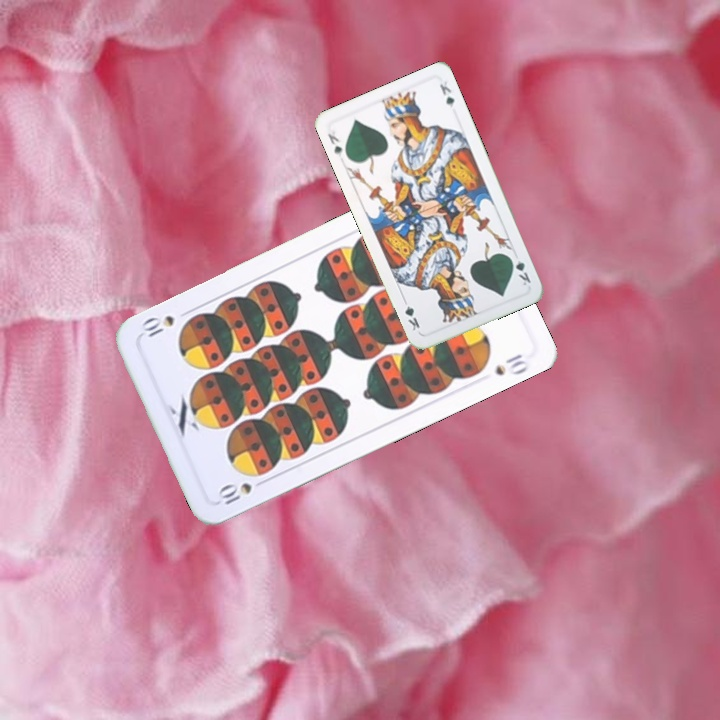GK: (506, 252, 533, 288), (324, 129, 345, 159)
S10: (213, 475, 270, 508)
